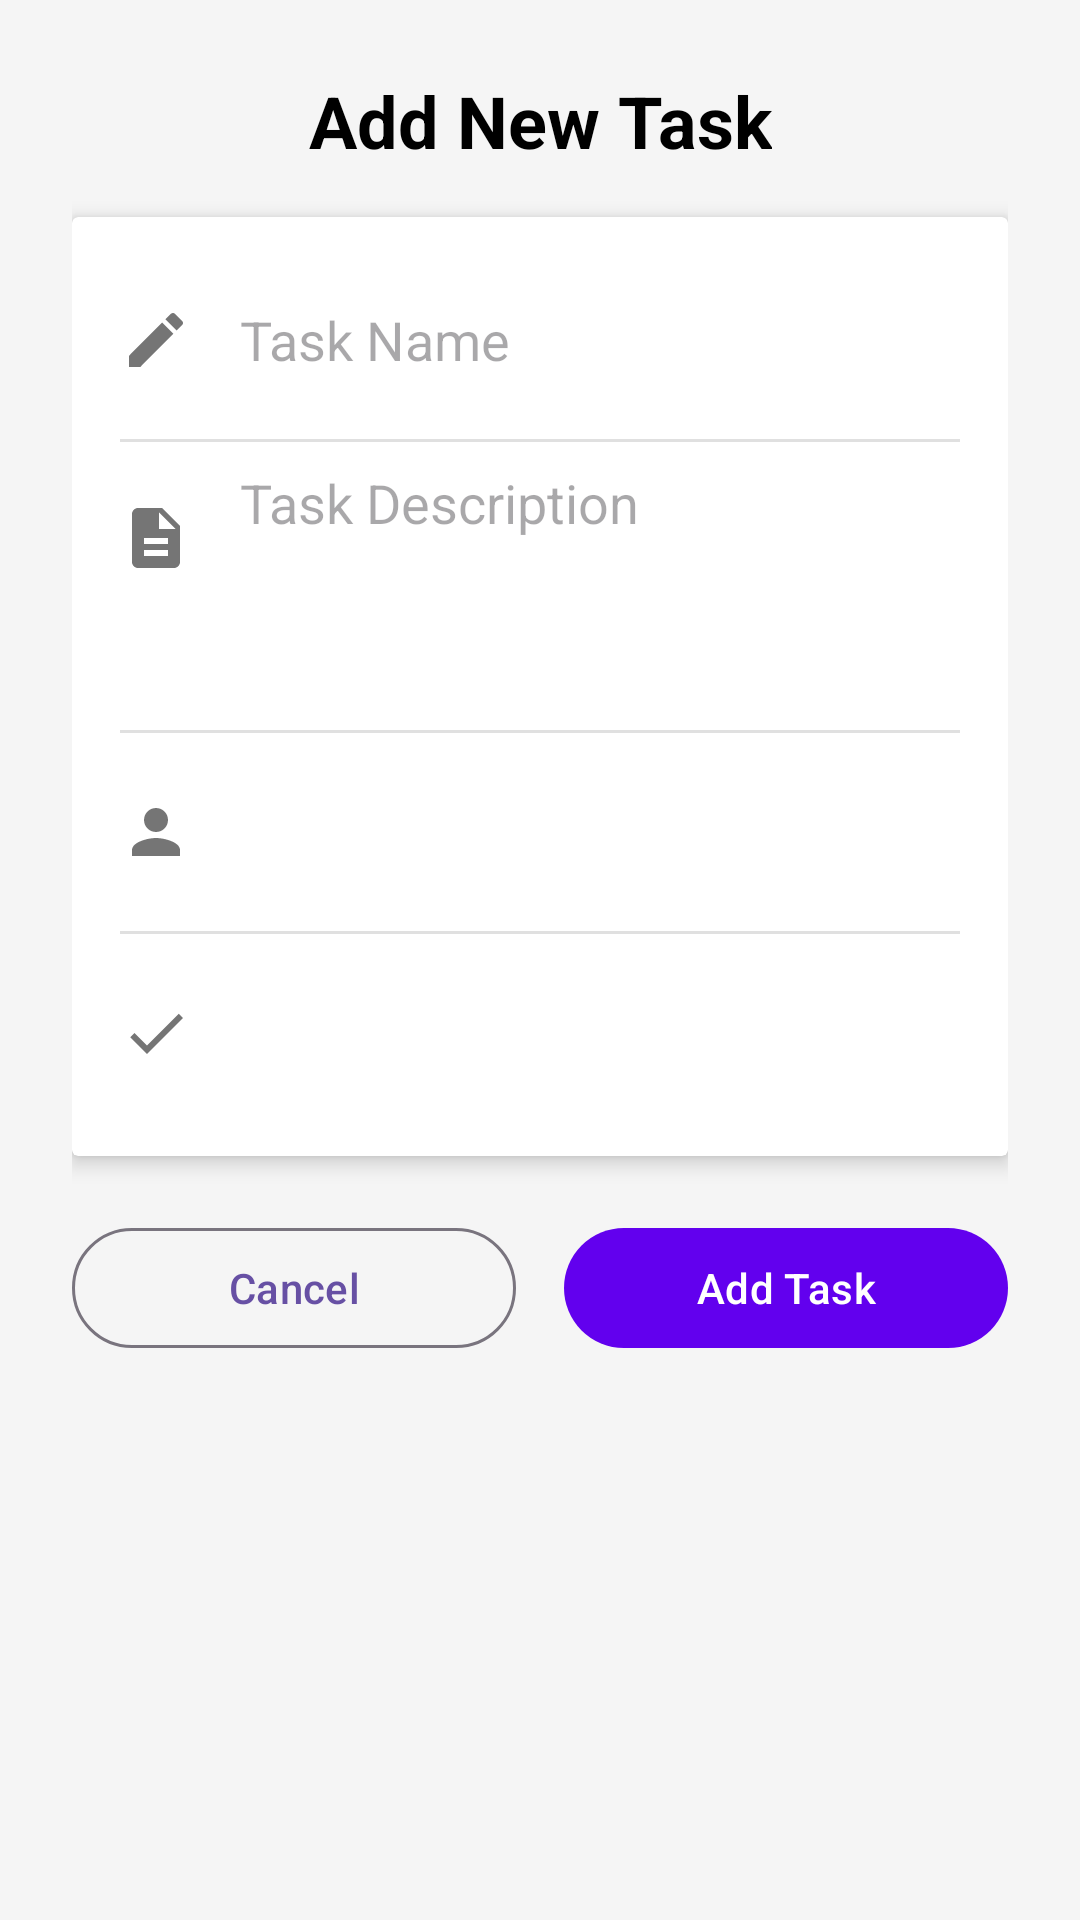

Where icons sit on this 1080 x 1920 app screen, as (x1, y1, x2, y2):
assign person task: (132, 808, 180, 856)
edit task: (129, 313, 183, 367)
status task: (130, 1014, 183, 1054)
